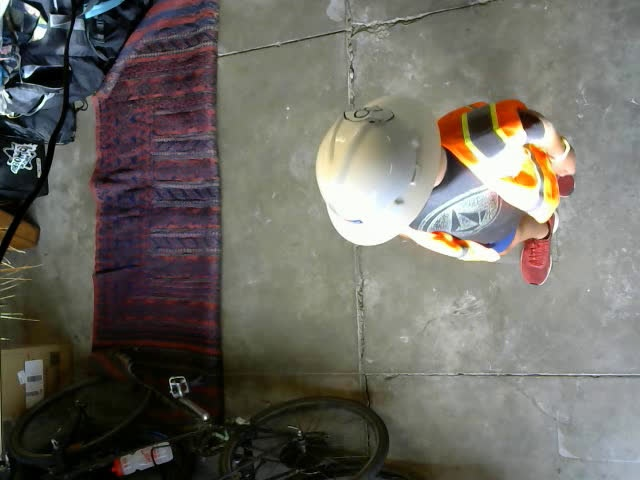eight: (341, 106, 394, 126)
